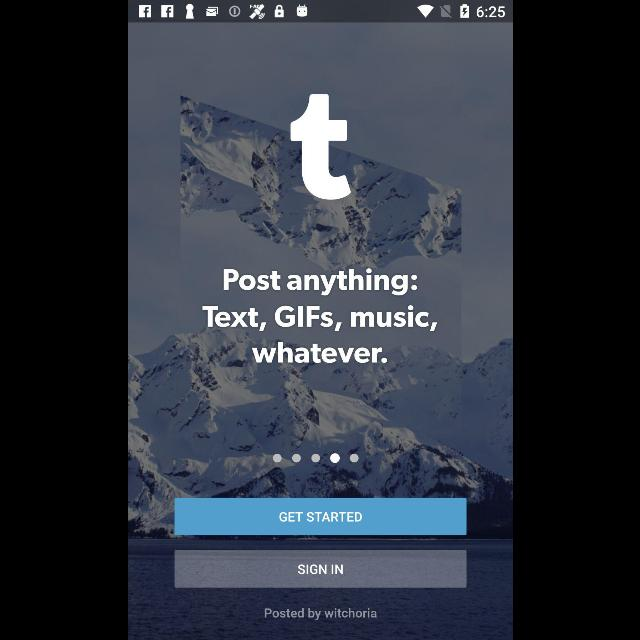backgroundimage: (128, 22, 512, 640)
image: (290, 94, 350, 200)
pageindicator: (272, 452, 358, 463)
text: (202, 269, 436, 363), (264, 608, 376, 620)
textbutton: (174, 497, 466, 535), (174, 550, 466, 588)
uppertaskbar: (128, 1, 512, 23)
